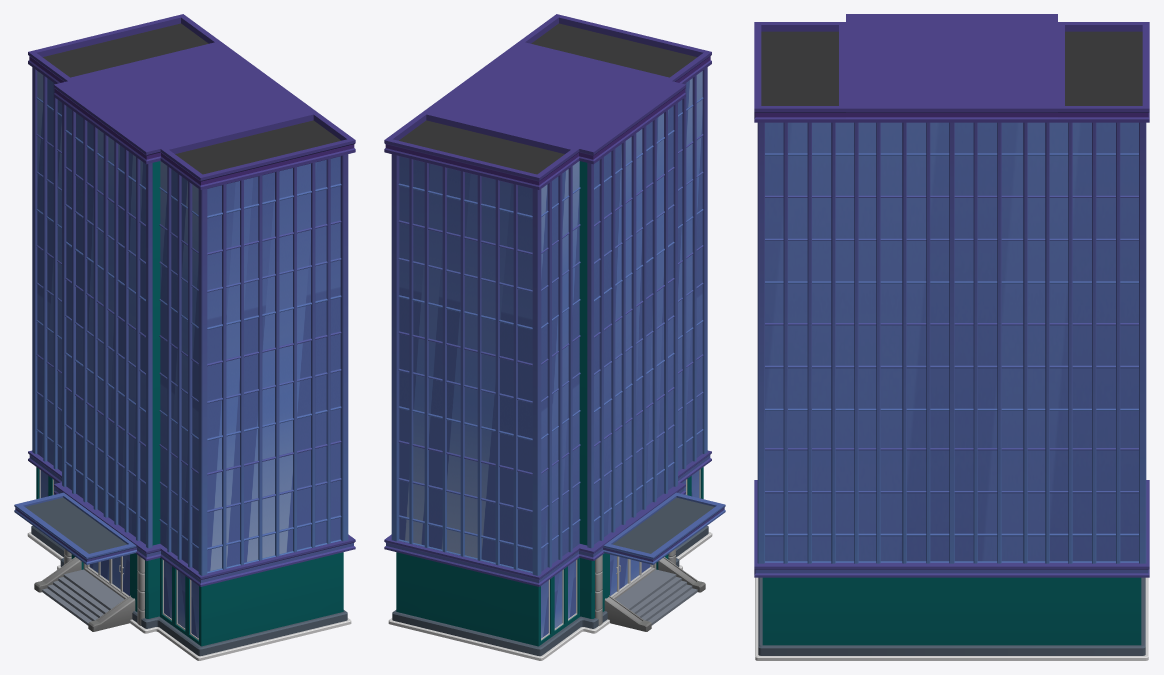
File: Building_17_2_I.fbx
3 renders of one model, left to right at view 1: azimuth 30°, elevation 25°; view 2: azimuth 150°, elevation 25°; view 3: azimuth 270°, elevation 25°, orthographic. The views are drawn at different scales.
Visible parts, largest first — view 1: Building_17_2_I; view 2: Building_17_2_I; view 3: Building_17_2_I.
Boxes of the visible parts, x1=… form: Building_17_2_I: x1=14, y1=14, x2=355, y2=660; Building_17_2_I: x1=384, y1=14, x2=725, y2=660; Building_17_2_I: x1=754, y1=14, x2=1149, y2=660.
Size of the model in its own units: 857 by 1805 by 1168.
